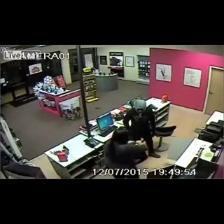person: (104, 127, 147, 178), (124, 100, 160, 158)
